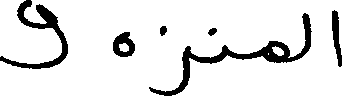9: (0, 0, 67, 70)
ا: (329, 7, 340, 67)
ز: (148, 24, 188, 94)
ل: (302, 11, 313, 57)
م: (266, 38, 289, 63)
ن: (207, 28, 228, 62)
ه: (112, 29, 134, 57)
